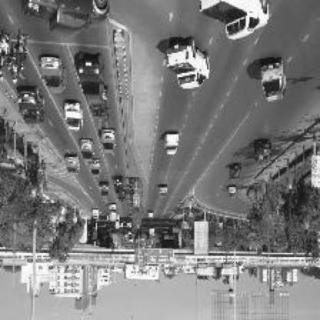other: (206, 3, 276, 45)
